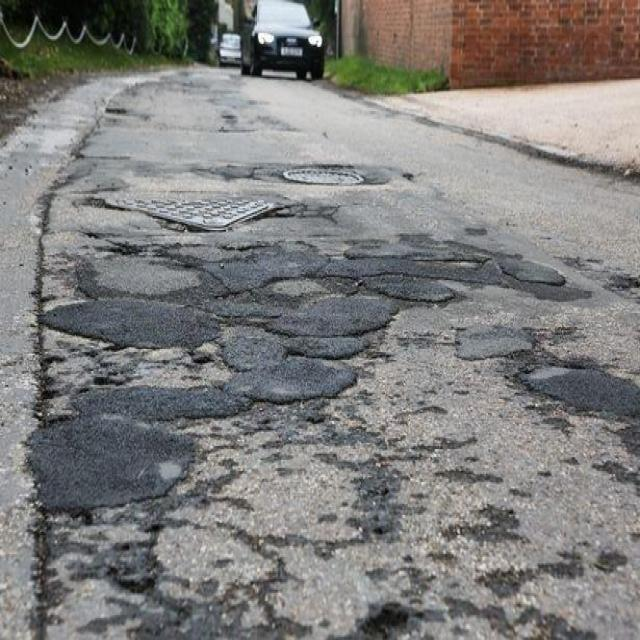jalan retak: (213, 515, 329, 640), (262, 194, 352, 238), (552, 239, 604, 284)
lubang: (40, 312, 224, 408), (440, 582, 605, 640), (253, 252, 388, 312), (346, 444, 416, 546), (71, 216, 163, 277), (477, 550, 584, 598), (345, 592, 449, 639), (110, 530, 171, 600), (411, 242, 510, 284), (450, 501, 530, 546), (277, 340, 374, 376), (434, 457, 517, 499), (90, 92, 156, 133), (71, 178, 134, 220), (37, 495, 100, 536), (586, 530, 633, 581), (602, 251, 640, 313), (212, 104, 242, 138)
